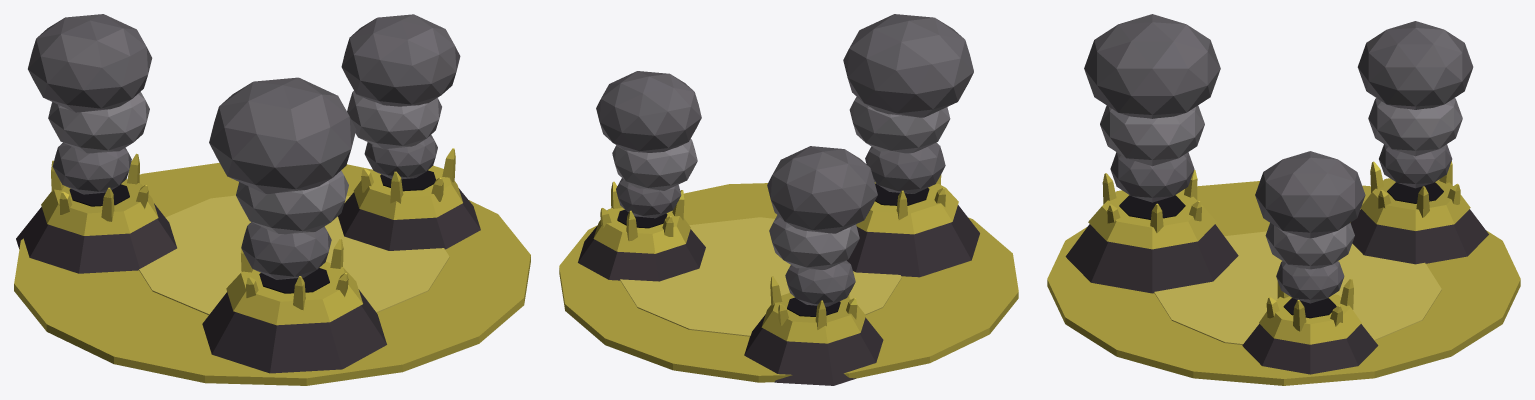
File: Decor_HellGate_SulfurVents.fbx
3 renders of one model, left to right at view 1: azimuth 30°, elevation 25°; view 2: azimuth 150°, elevation 25°; view 3: azimuth 270°, elevation 25°, orthographic. The views are drawn at different scales.
Parts seen in each view (by area): view 1: SulfurVents_Body; view 2: SulfurVents_Body; view 3: SulfurVents_Body.
Part boxes in pixels (left/top/right/bottom): SulfurVents_Body: left=14, top=14, right=530, bottom=385; SulfurVents_Body: left=559, top=14, right=1018, bottom=385; SulfurVents_Body: left=1047, top=14, right=1520, bottom=385.
Bounding box in the file's own units: 18 × 9.9 × 18.
